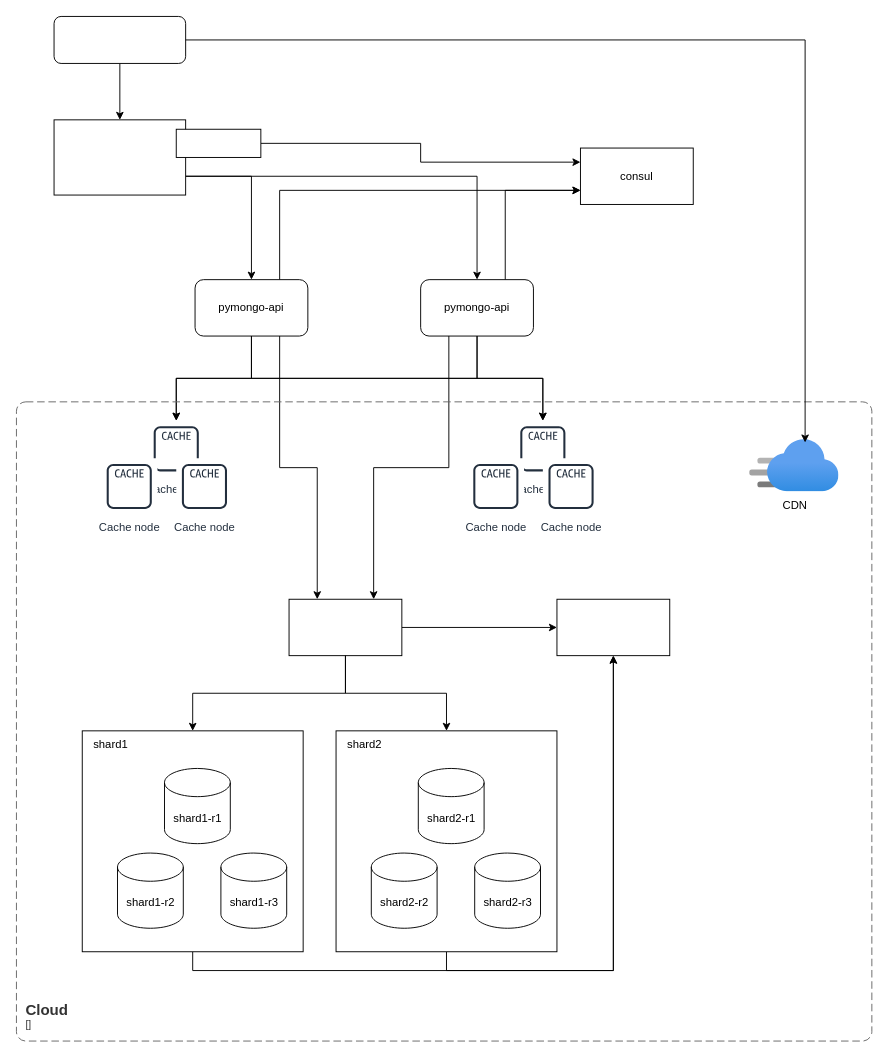
The diagram is 888 pixels wide and 1058 high, and some of its shapes have lost their labels. The shapes that lost their labels are listed below. From the top down, each one's box as (x1, y1, x2, y2) in pixels, then its label:
(53, 16, 186, 63): client (site)
(53, 119, 186, 195): api-gateway
(175, 128, 261, 157): consul_kv
(288, 598, 402, 656): mongos_router
(556, 598, 670, 656): configSrv
